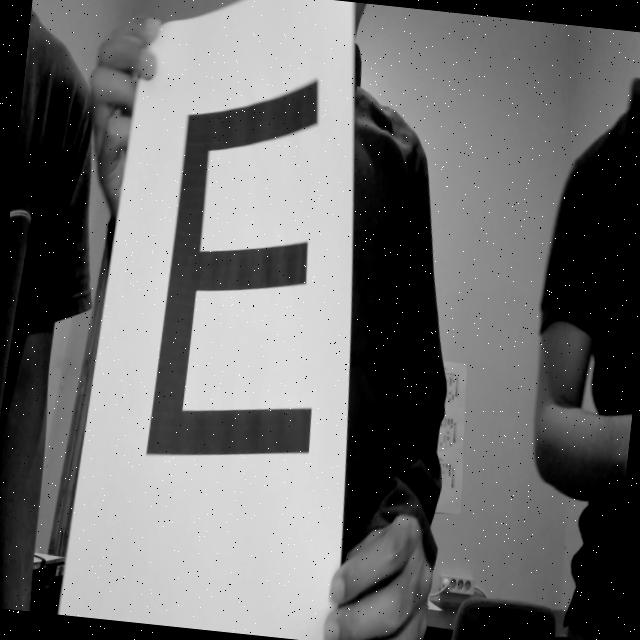e: (128, 65, 363, 498)
